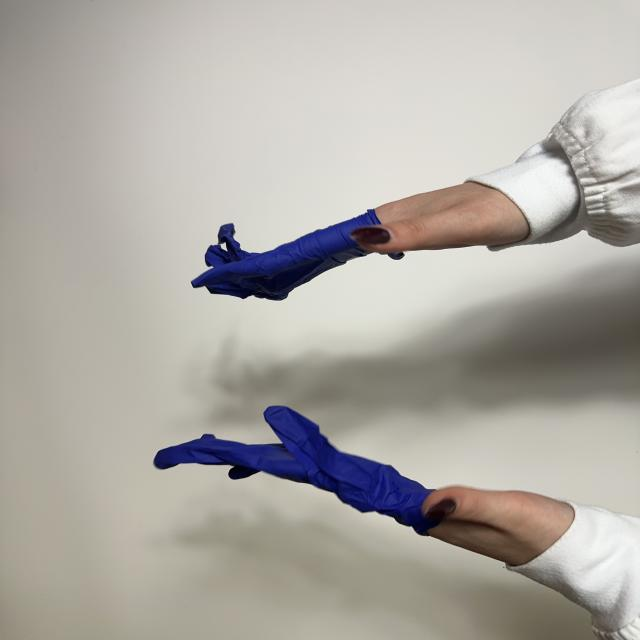glove_partial: (154, 406, 576, 566), (192, 183, 529, 300)
